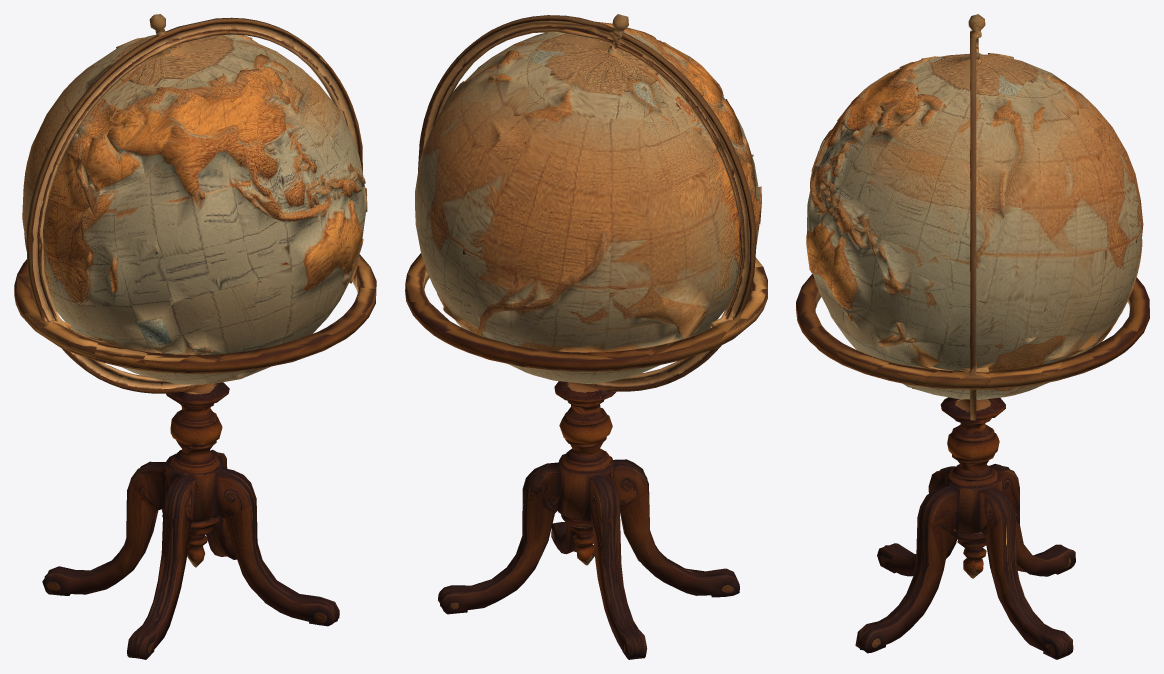
File: globe.glb
3 views of the same model, side by side, from view 1: azimuth 30°, elevation 25°; view 2: azimuth 150°, elevation 25°; view 3: azimuth 270°, elevation 25° (orthographic). The views are drawn at different scales.
Parts seen in each view (by area): view 1: globe; view 2: globe; view 3: globe.
Boxes of the visible parts, box(x1,y1,x2,y2) form: globe: box(14, 14, 376, 659); globe: box(405, 14, 767, 659); globe: box(796, 14, 1149, 659).
Bounding box in the file's own units: 0.7786 × 1.32 × 0.7294.
1 material, 1 textured.
